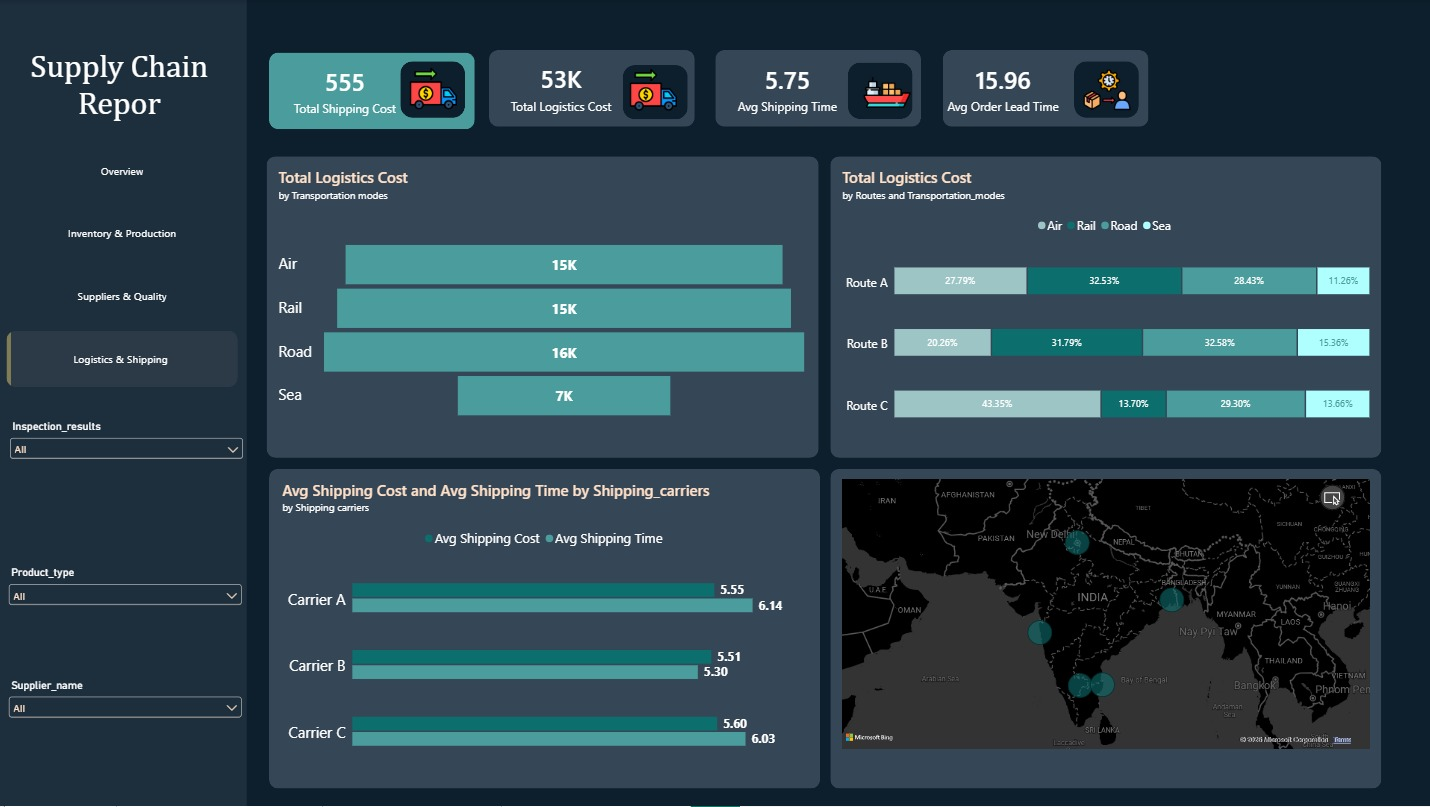

What the dashboard file says about the page in this screenshot:
{"tool":"powerbi","page":{"name":"Logistics & Shipping","canvas":[1920,1080],"ordinal":3},"visuals":[{"type":"shape","box":[0,2.9,86.9,75.9],"z":0,"group":"g1"},{"type":"group","id":"g1","title":"Group 1","box":[0,2.9,86.9,75.9],"z":0},{"type":"shape","box":[537.6,81.4,86.9,75.9],"z":0,"group":"g4"},{"type":"shape","box":[1440,82.9,86.9,75.9],"z":0,"group":"g2"},{"type":"group","id":"g2","title":"Group 1","box":[1440,82.9,86.9,75.9],"z":0,"group":"g7"},{"type":"group","id":"g3","title":"Group 1","box":[1137.1,84.3,86.9,75.9],"z":0,"group":"g6"},{"type":"shape","box":[1137.1,84.3,86.9,75.9],"z":0,"group":"g3"},{"type":"shape","box":[835.7,87.1,87.1,72.9],"z":0,"group":"g5"},{"type":"shape","box":[0,0,331.7,1080],"z":1000},{"type":"shape","box":[362.2,70.3,275.7,102.9],"z":2000},{"type":"shape","box":[657.1,67.1,275.7,102.9],"z":3000},{"type":"shape","box":[1264.3,67.1,275.7,102.9],"z":4000},{"type":"shape","box":[960,67.1,275.7,102.9],"z":5000},{"type":"shape","box":[358.3,210,740,404.3],"z":6000},{"type":"shape","box":[1114.3,628.6,738.6,428.6],"z":7000},{"type":"shape","box":[1114.3,210,738.6,404.3],"z":8000},{"type":"shape","box":[361.4,628.6,738.6,428.6],"z":9000},{"type":"textbox","box":[12.9,67.1,295.7,111.4],"z":10000},{"type":"group","id":"g4","title":"Group 1","box":[537.6,81.4,86.9,75.9],"z":11000},{"type":"group","id":"g5","title":"Group 2","box":[835.7,87.1,87.1,72.9],"z":12000},{"type":"group","id":"g6","title":"Group 3","box":[1137.1,84.3,86.9,75.9],"z":13000},{"type":"group","id":"g7","title":"Group 3","box":[1440,82.9,86.9,75.9],"z":14000},{"type":"card","fields":{"Values":["Measures (2).Total Shipping Cost"]},"box":[344.3,54.3,237.1,135.7],"z":15000},{"type":"card","fields":{"Values":["Measures (2).Total Logistics Cost"]},"box":[648.6,54.3,210,128.6],"z":16000},{"type":"card","fields":{"Values":["Measures (2).Avg Shipping Time"]},"box":[947.1,65.7,220,107.1],"z":17000},{"type":"card","fields":{"Values":["Measures (2).Avg Order Lead Time"]},"box":[1251.4,31.4,188.3,173.3],"z":18000},{"type":"slicer","fields":{"Values":["Status.Inspection_results"]},"box":[10,563.3,321.7,170],"z":19000},{"type":"slicer","fields":{"Values":["Summary_Type.Product_type"]},"box":[8.3,758.3,321.7,170],"z":20000},{"type":"slicer","fields":{"Values":["Fact_table.Supplier_name"]},"box":[8.3,910,321.7,170],"z":21000},{"type":"funnel","title":"Total Logistics Cost ","fields":{"Category":["Tranport.Transportation_modes"],"Y":["Measures (2).Total Logistics Cost"]},"box":[358.6,210,741.4,404.3],"z":22000},{"type":"clusteredBarChart","fields":{"Category":["Fact_table.Shipping_carriers"],"Y":["Measures (2).Avg Shipping Cost","Measures (2).Avg Shipping Time"]},"box":[362.9,628.6,737.1,428.6],"z":23000},{"type":"hundredPercentStackedBarChart","title":"Total Logistics Cost ","fields":{"Category":["Rout.Routes"],"Series":["Tranport.Transportation_modes"],"Y":["Measures (2).Total Logistics Cost"]},"box":[1114.3,210,738.6,404.3],"z":24000},{"type":"map","fields":{"Category":["Summary_City.City"],"Size":["Measures (2).Total Revenue"]},"box":[1114.3,628.6,738.6,428.6],"z":25000},{"type":"image","box":[833.2,89.3,89.3,63.4],"z":26000},{"type":"image","box":[1146.3,91.9,89.3,63.4],"z":27000},{"type":"image","box":[1440,89.3,89.3,63.4],"z":28000},{"type":"image","box":[538.2,86.7,89.3,63.4],"z":29000},{"type":"bookmarkNavigator","box":[10.4,190.2,310.5,329.9],"z":30000}]}

Visuals, with their boxes on the page's 1920x1080 design canvas (x1, y1, x2, y2). These are canvas units, not pixel positions in the 1430x807 screenshot, which may show the page scaled, cropped or inside an application window:
shape: 0/3/87/79
"Group 1" group: 0/3/87/79
shape: 538/81/624/157
shape: 1440/83/1527/159
"Group 1" group: 1440/83/1527/159
"Group 1" group: 1137/84/1224/160
shape: 1137/84/1224/160
shape: 836/87/923/160
shape: 0/0/332/1080
shape: 362/70/638/173
shape: 657/67/933/170
shape: 1264/67/1540/170
shape: 960/67/1236/170
shape: 358/210/1098/614
shape: 1114/629/1853/1057
shape: 1114/210/1853/614
shape: 361/629/1100/1057
textbox: 13/67/309/178
"Group 1" group: 538/81/624/157
"Group 2" group: 836/87/923/160
"Group 3" group: 1137/84/1224/160
"Group 3" group: 1440/83/1527/159
card - Measures (2).Total Shipping Cost: 344/54/581/190
card - Measures (2).Total Logistics Cost: 649/54/859/183
card - Measures (2).Avg Shipping Time: 947/66/1167/173
card - Measures (2).Avg Order Lead Time: 1251/31/1440/205
slicer - Status.Inspection_results: 10/563/332/733
slicer - Summary_Type.Product_type: 8/758/330/928
slicer - Fact_table.Supplier_name: 8/910/330/1080
"Total Logistics Cost " funnel: 359/210/1100/614
clusteredBarChart - Fact_table.Shipping_carriers x Measures (2).Avg Shipping Cost: 363/629/1100/1057
"Total Logistics Cost " hundredPercentStackedBarChart: 1114/210/1853/614
map - Summary_City.City x Measures (2).Total Revenue: 1114/629/1853/1057
image: 833/89/922/153
image: 1146/92/1236/155
image: 1440/89/1529/153
image: 538/87/628/150
bookmarkNavigator: 10/190/321/520
